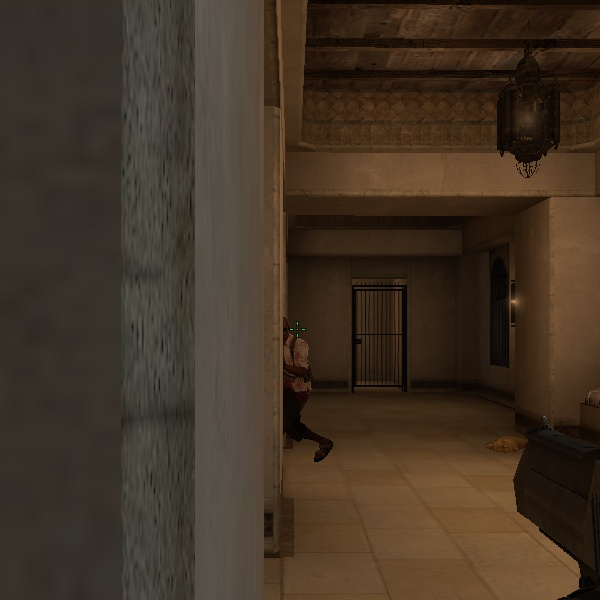t_body: (280, 315, 328, 462)
